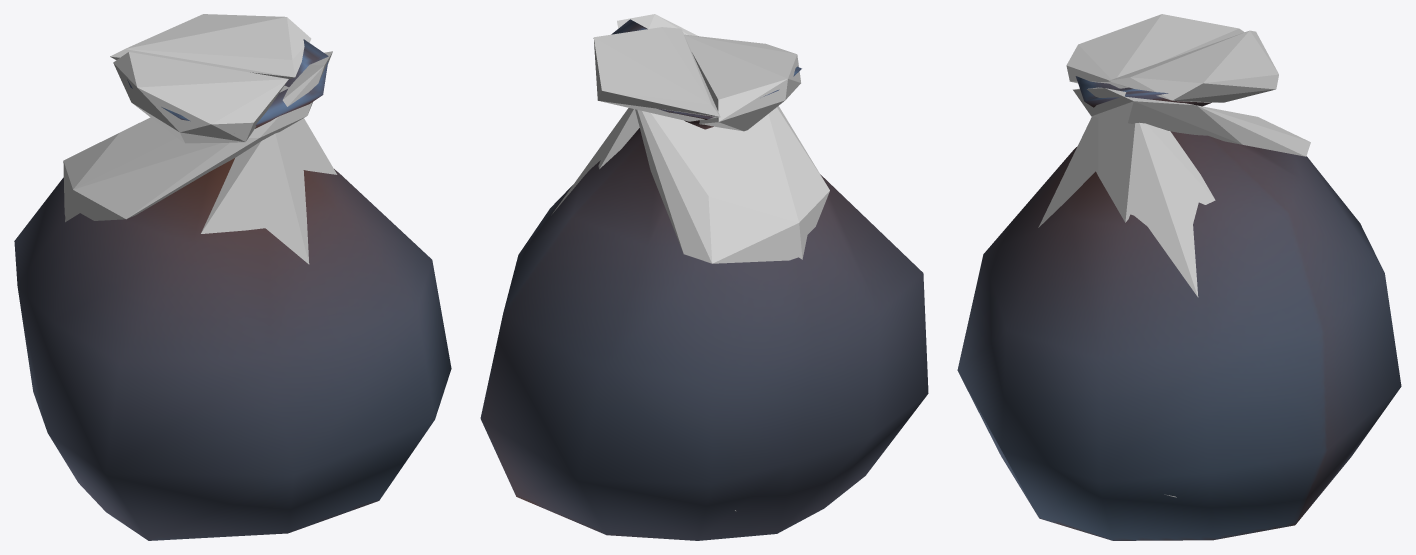
File: SM_Bag_f.fbx
The picture shows the model from 3 angles, left to right: view 1: azimuth 30°, elevation 25°; view 2: azimuth 150°, elevation 25°; view 3: azimuth 270°, elevation 25°; orthographic projection.
Parts seen in each view (by area): view 1: SM_Bag_f, SM_Bag_f_ConvexHulls; view 2: SM_Bag_f, SM_Bag_f_ConvexHulls; view 3: SM_Bag_f, SM_Bag_f_ConvexHulls.
Part boxes in pixels (<box>): SM_Bag_f: <box>14,39,451,540</box>; SM_Bag_f_ConvexHulls: <box>63,14,337,264</box>; SM_Bag_f: <box>480,19,928,540</box>; SM_Bag_f_ConvexHulls: <box>552,14,829,511</box>; SM_Bag_f: <box>957,76,1401,540</box>; SM_Bag_f_ConvexHulls: <box>1038,14,1310,497</box>.
Size of the model in its own units: 26.3 by 27.19 by 29.39.
Materials: 2 (1 with a texture image).
